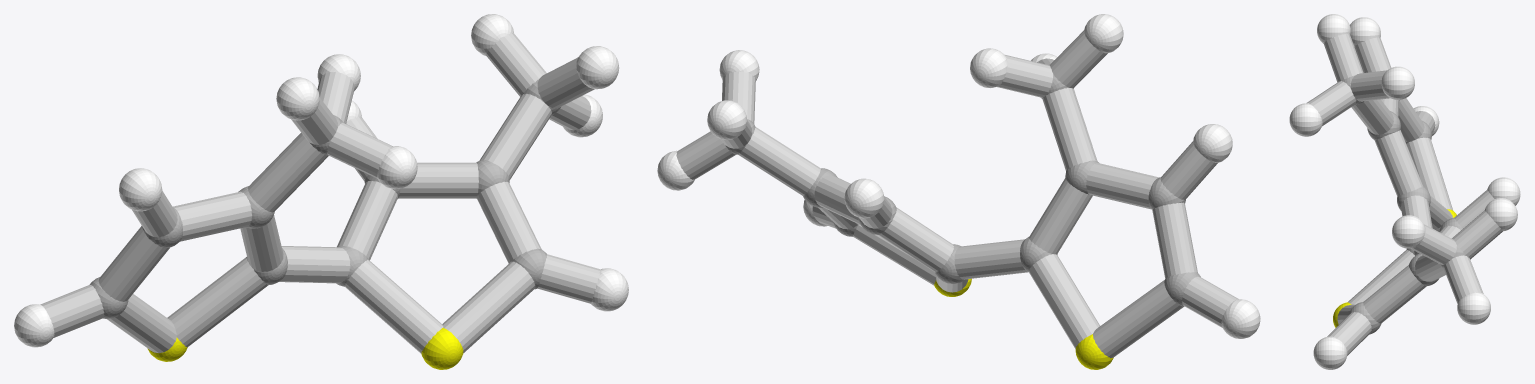
File: Methylthiophene_Phi_30_Theta_110_Methylthiophene.glb
3 views of the same model, side by side, from view 1: azimuth 30°, elevation 25°; view 2: azimuth 150°, elevation 25°; view 3: azimuth 270°, elevation 25° (orthographic). The views are drawn at different scales.
Parts seen in each view (by area): view 1: grp7965, grp3621, grp1, grp7241; view 2: grp7965, grp3621, grp1, grp7241; view 3: grp7965, grp3621, grp1.
Boxes of the visible parts, box(x1,y1,x2,y2) form: grp7965: box(40, 33, 600, 353); grp3621: box(14, 14, 628, 347); grp1: box(89, 79, 560, 318); grp7241: box(147, 327, 463, 369); grp7965: box(676, 30, 1238, 358); grp3621: box(657, 14, 1260, 338); grp1: box(725, 64, 1200, 306); grp7241: box(934, 278, 1113, 369); grp7965: box(1306, 34, 1502, 355); grp3621: box(1289, 14, 1520, 369); grp1: box(1342, 75, 1465, 334).
Bounding box in the file's own units: 9.83 × 5.09 × 4.1.
